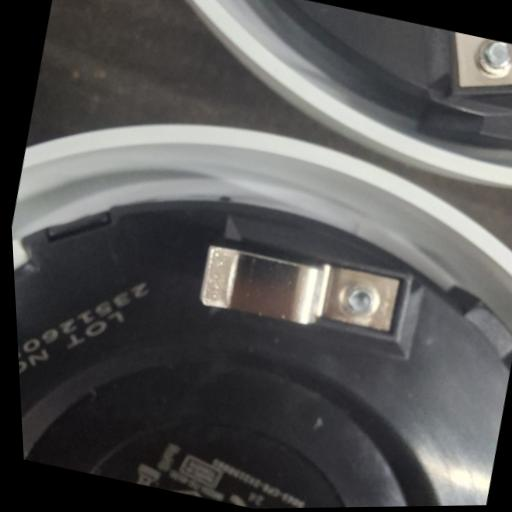yaysiz: (191, 231, 412, 349)
